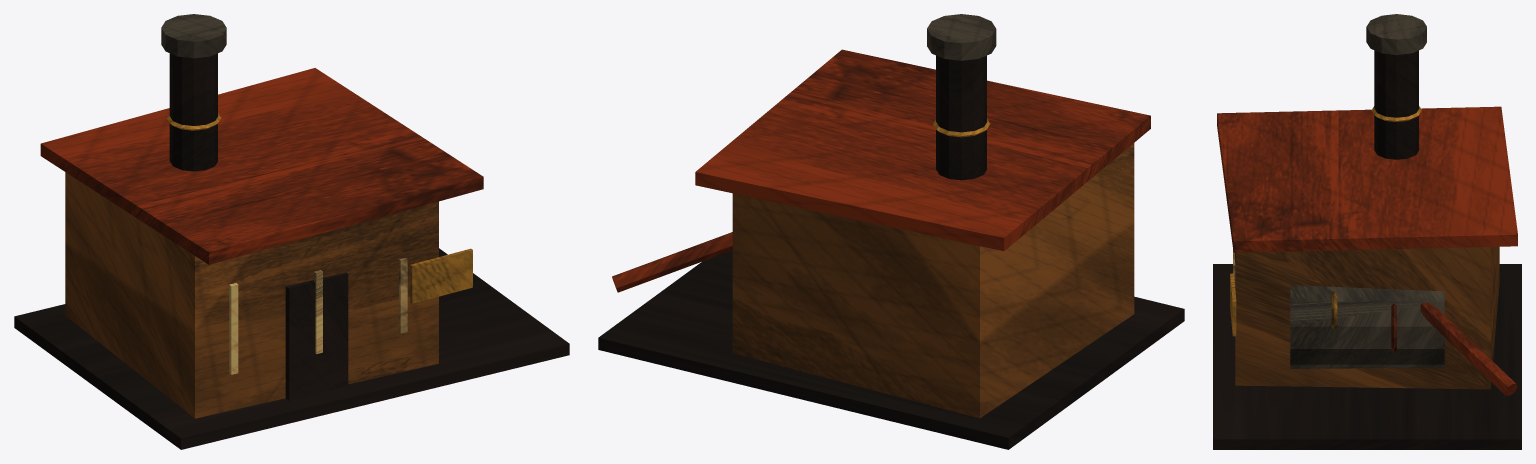
File: north-boiler-site.glb
3 views of the same model, side by side, from view 1: azimuth 30°, elevation 25°; view 2: azimuth 150°, elevation 25°; view 3: azimuth 270°, elevation 25° (orthographic). The views are drawn at different scales.
Visible parts, largest first — view 1: north-boiler-site; view 2: north-boiler-site; view 3: north-boiler-site.
Boxes of the visible parts, x1,y1,x2,y2 form: north-boiler-site: (14, 14, 569, 449); north-boiler-site: (598, 14, 1184, 449); north-boiler-site: (1213, 14, 1521, 449).
Bounding box in the file's own units: 7.8 × 6.18 × 5.8.
1 material, 1 textured.
